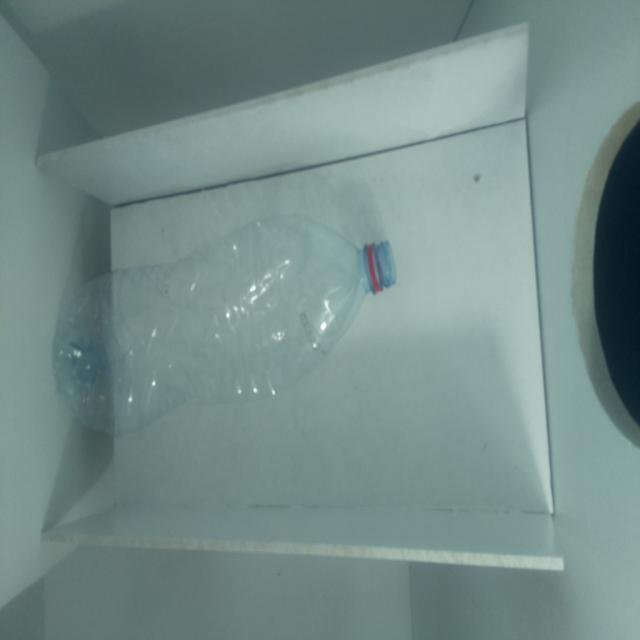plastic_bottle: (55, 215, 398, 436)
